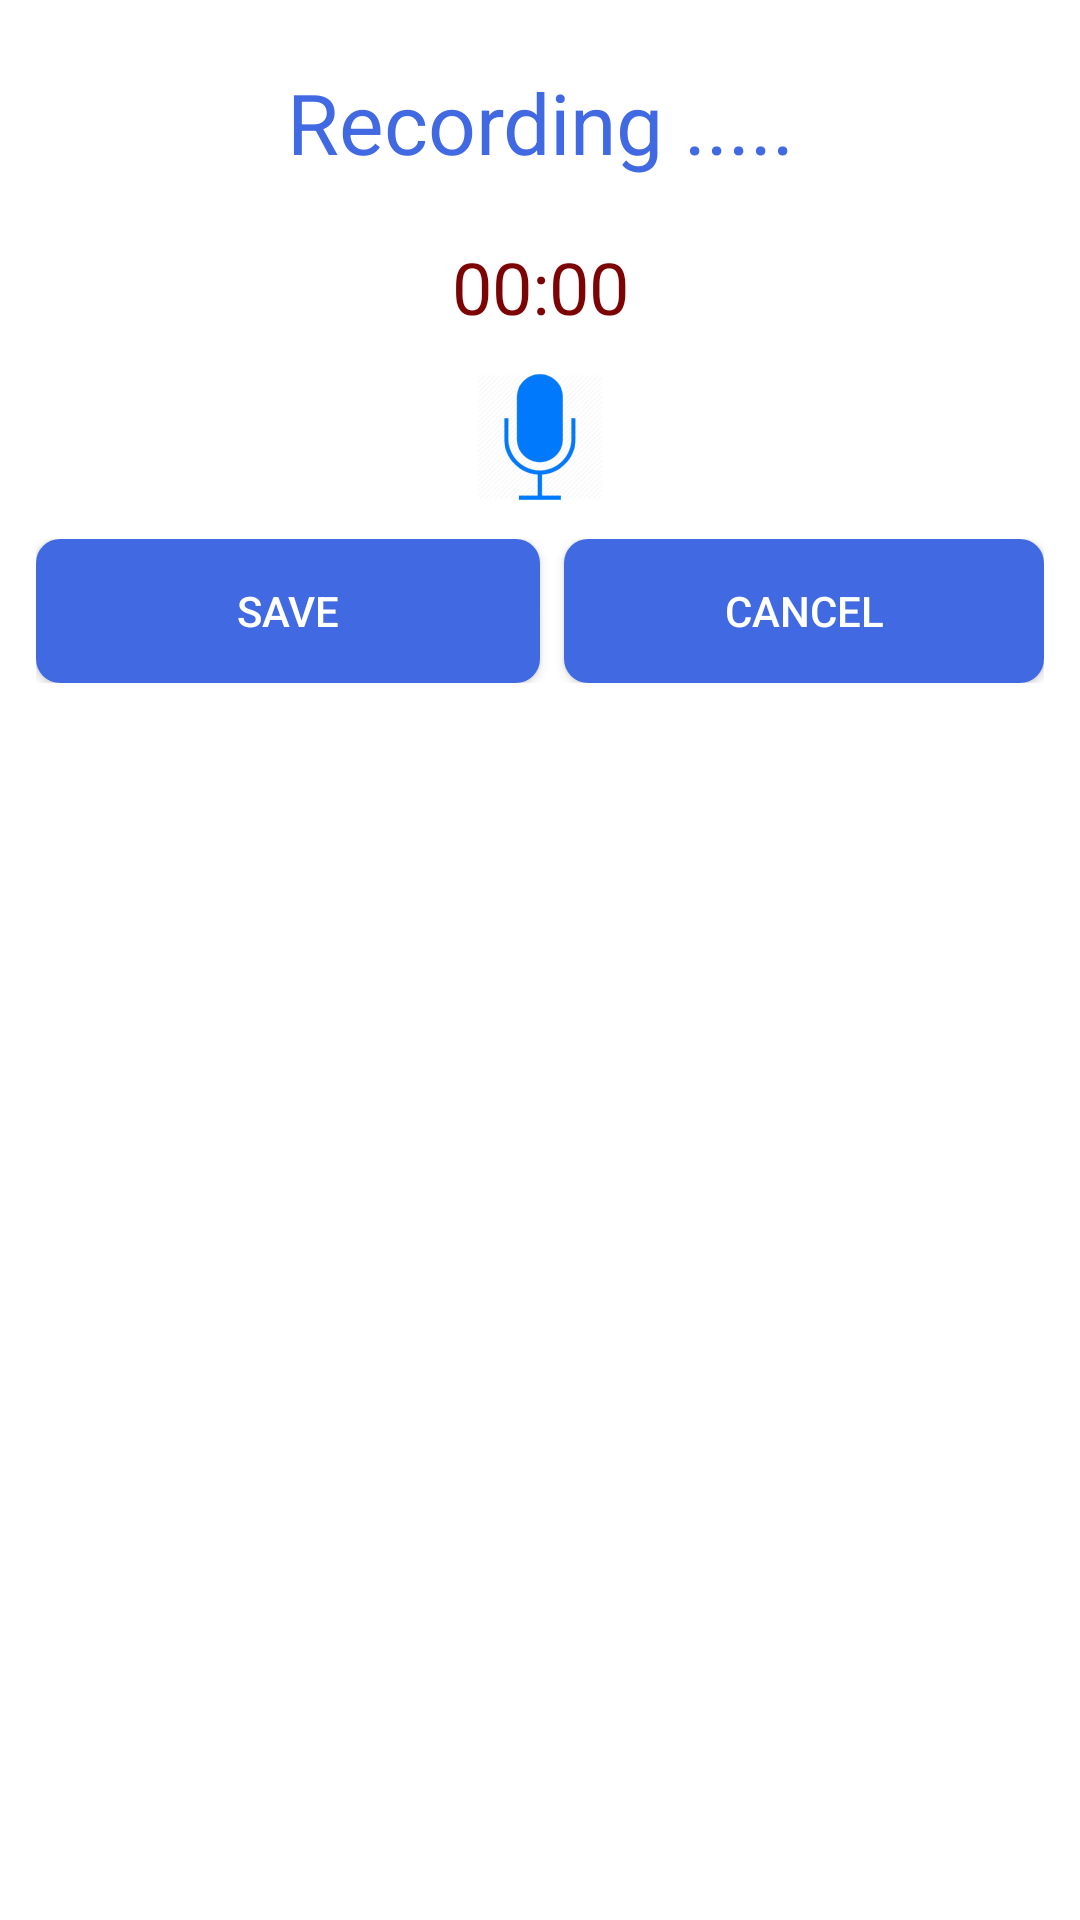

Point at icon controls on the screen. Image size 1080*1920, points as (x=x, y=y).
mic: (x=540, y=437)
